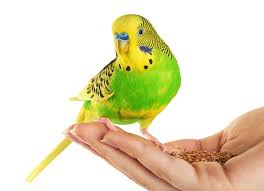budgie: (67, 10, 181, 152)
